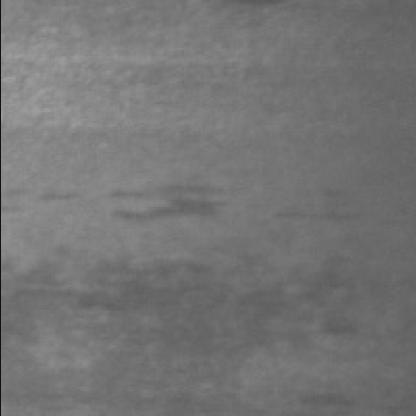inclusion: (8, 266, 370, 368), (94, 175, 240, 237), (262, 198, 370, 240)
